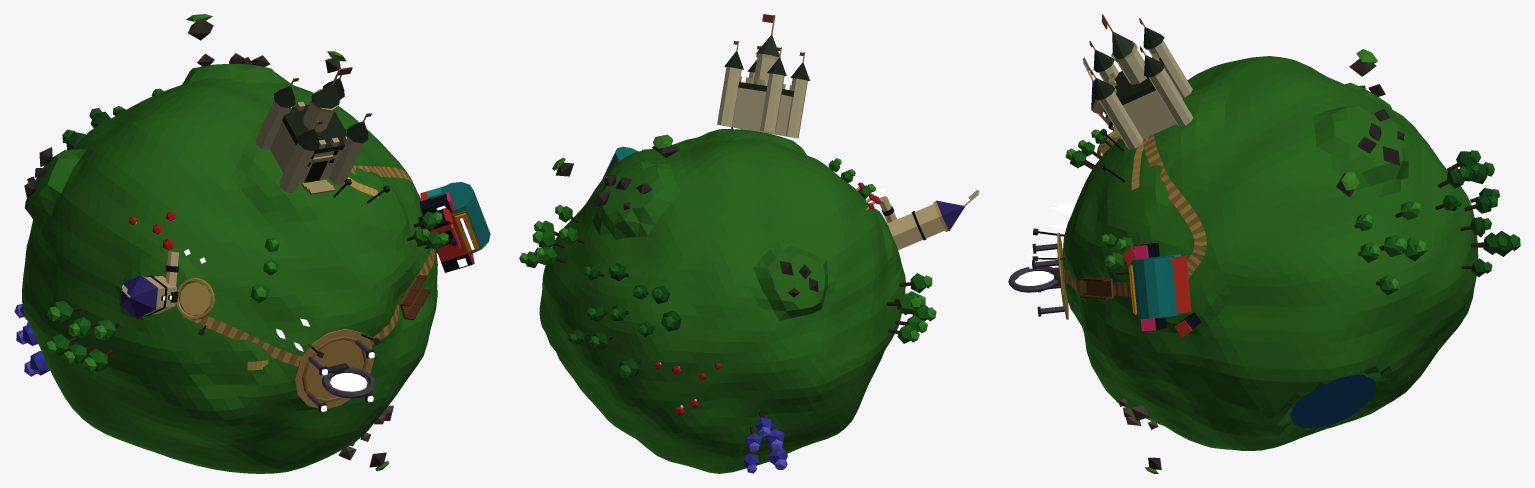
Rendered from games-v1.glb.
3 views of the same model, side by side, from view 1: azimuth 30°, elevation 25°; view 2: azimuth 150°, elevation 25°; view 3: azimuth 270°, elevation 25° (orthographic). The views are drawn at different scales.
Visible parts, largest first — view 1: GAMES_TERRAIN, GAMES_DECORATIONS_STATIC, KINGDOM_CASTLE, PORTAL_PLAZA, SCRIPTORIUM, ARCADE_HALL, GAMES_ACCENTS_GLOW, GAMES_ROAD_PLAZA_SCRIPTORIUM, GAMES_ROAD_PLAZA_VILLAGE, GAMES_ROAD_VILLAGE_CASTLE; view 2: GAMES_TERRAIN, GAMES_DECORATIONS_STATIC, KINGDOM_CASTLE, SCRIPTORIUM; view 3: GAMES_TERRAIN, GAMES_DECORATIONS_STATIC, KINGDOM_CASTLE, ARCADE_HALL, GAMES_LAKE_WATER, GAMES_ROAD_VILLAGE_CASTLE, PORTAL_PLAZA, GAMES_ACCENTS_GLOW, SCRIPTORIUM, GAMES_ROAD_PLAZA_VILLAGE.
Boxes of the visible parts, left/top/right/bottom form: GAMES_TERRAIN: left=22, top=64, right=437, bottom=473; GAMES_DECORATIONS_STATIC: left=14, top=14, right=457, bottom=471; KINGDOM_CASTLE: left=256, top=67, right=371, bottom=194; PORTAL_PLAZA: left=294, top=328, right=375, bottom=411; SCRIPTORIUM: left=120, top=251, right=214, bottom=319; ARCADE_HALL: left=419, top=182, right=490, bottom=272; GAMES_ACCENTS_GLOW: left=163, top=205, right=474, bottom=411; GAMES_ROAD_PLAZA_SCRIPTORIUM: left=183, top=311, right=302, bottom=366; GAMES_ROAD_PLAZA_VILLAGE: left=366, top=248, right=435, bottom=345; GAMES_ROAD_VILLAGE_CASTLE: left=350, top=165, right=421, bottom=200; GAMES_TERRAIN: left=539, top=129, right=905, bottom=473; GAMES_DECORATIONS_STATIC: left=519, top=127, right=936, bottom=473; KINGDOM_CASTLE: left=717, top=14, right=809, bottom=138; SCRIPTORIUM: left=879, top=190, right=979, bottom=249; GAMES_TERRAIN: left=1062, top=56, right=1478, bottom=450; GAMES_DECORATIONS_STATIC: left=1032, top=49, right=1520, bottom=473; KINGDOM_CASTLE: left=1089, top=14, right=1193, bottom=149; ARCADE_HALL: left=1128, top=243, right=1191, bottom=331; GAMES_LAKE_WATER: left=1290, top=374, right=1375, bottom=428; GAMES_ROAD_VILLAGE_CASTLE: left=1142, top=134, right=1206, bottom=278; PORTAL_PLAZA: left=1008, top=233, right=1068, bottom=319; GAMES_ACCENTS_GLOW: left=1017, top=111, right=1113, bottom=314; SCRIPTORIUM: left=1082, top=57, right=1118, bottom=156; GAMES_ROAD_PLAZA_VILLAGE: left=1062, top=261, right=1131, bottom=296.
Size of the model in its own units: 9.8 by 10.08 by 10.91.
